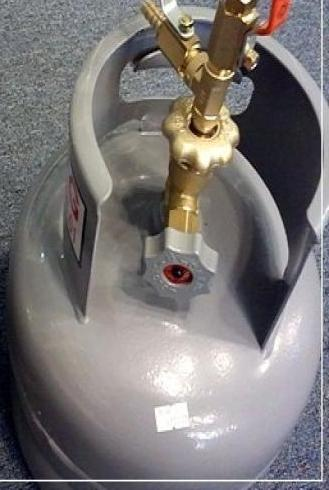cylinder: (0, 1, 329, 490)
